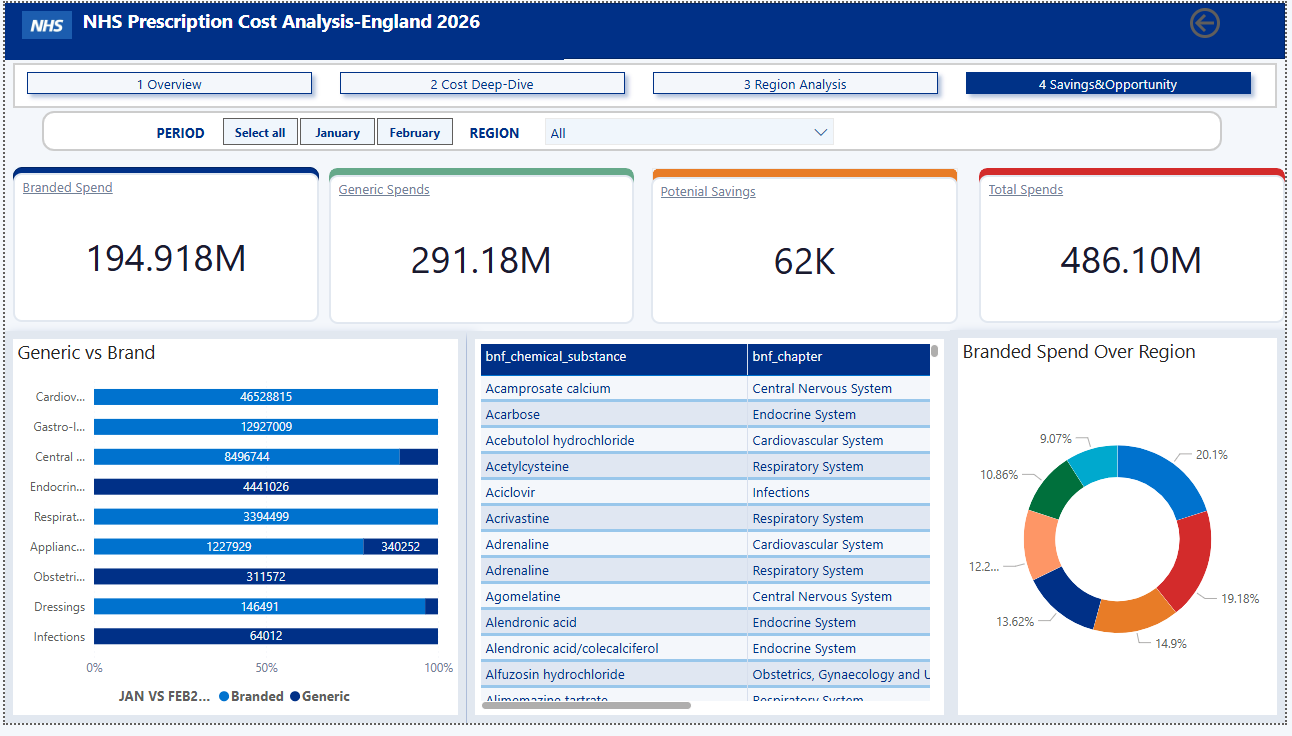

This screenshot's page, from the dashboard's own definition file:
{"tool":"powerbi","page":{"name":"4 Savings&Opportunity","canvas":[1280,720],"ordinal":3},"visuals":[{"type":"shape","title":"NHS Prescription Cost Analysis-England 2026","box":[0,0,1279.7,56.4],"z":0},{"type":"textbox","box":[0,0,559.2,56.7],"z":1000},{"type":"image","box":[17,6.5,50,30],"z":2000},{"type":"shape","box":[8.2,164.2,305.9,43.9],"z":3000},{"type":"card","title":"Branded Spend","fields":{"Values":["Measures Table.Branded_spend"]},"box":[8,170,306,149],"z":4000},{"type":"shape","box":[324,164.6,305.2,28.1],"z":6000},{"type":"cardVisual","fields":{"Data":["Measures Table.MoM Change %"]},"box":[50,343.8,147.9,56.2],"z":7000},{"type":"card","title":"Generic Spends","fields":{"Values":["Measures Table.Generic_spend"]},"box":[324,171.9,305.2,149],"z":8000},{"type":"shape","box":[647.4,165,305.5,43.2],"z":10000},{"type":"card","title":"Potenial Savings","fields":{"Values":["Measures Table.potential_savings"]},"box":[646.4,173.9,306.5,147.4],"z":11000},{"type":"shape","box":[974.1,165,305.9,41.4],"z":12000},{"type":"card","title":"Total Spends","fields":{"Values":["Sum(fact_table.nic)"]},"box":[974,172.1,305.8,148.1],"z":13000},{"type":"hundredPercentStackedBarChart","title":"Generic vs Brand","fields":{"Y":["Sum(fact_table.items)"],"Series":["dim_drugs.Drug Type"],"Category":["dim_drugs.bnf_chapter"]},"box":[0,328.1,461.5,391.7],"z":14000},{"type":"donutChart","title":"Branded Spend Over Region","fields":{"Category":["dim_location.region_name"],"Y":["Measures Table.Branded_spend"]},"box":[945.1,327,334.4,392.6],"z":15000},{"type":"tableEx","fields":{"Values":["dim_drugs.bnf_chemical_substance","dim_drugs.bnf_chapter","dim_drugs.has_generinc_equivalent","Measures Table.Branded_spend","Measures Table.potential_savings"]},"box":[461.7,327.7,485.1,392.6],"z":16000},{"type":"shape","box":[8,60,1264,45],"z":17000},{"type":"textbox","box":[59.6,116.2,33.3,16.2],"z":20000},{"type":"textbox","box":[943,116,52,48],"z":29000},{"type":"shape","box":[37.3,108.2,1180,40],"z":30000},{"type":"slicer","fields":{"Values":["dim_date.months"]},"box":[191.6,108.4,280.3,40.3],"z":31000},{"type":"actionButton","box":[1180,0,100,40],"z":32000},{"type":"textbox","box":[146.8,116,67,47.9],"z":33000},{"type":"textbox","box":[460.3,115.5,108.4,33.1],"z":34000},{"type":"slicer","fields":{"Values":["dim_location.region_name"]},"box":[529.9,105.2,309.3,43.3],"z":35000},{"type":"pageNavigator","box":[12.9,60,1245,40],"z":41001}]}

Visuals, with their boxes in screenshot pixels (x1, y1, x2, y2), scaled from the page's 1280x720 canvas onto the 1292x736 screenshot:
"NHS Prescription Cost Analysis-England 2026" shape: select_region(0, 0, 1291, 58)
textbox: select_region(0, 0, 564, 58)
image: select_region(17, 7, 68, 37)
shape: select_region(8, 168, 317, 213)
"Branded Spend" card: select_region(8, 174, 317, 326)
shape: select_region(327, 168, 635, 197)
cardVisual - Measures Table.MoM Change %: select_region(50, 351, 200, 409)
"Generic Spends" card: select_region(327, 176, 635, 328)
shape: select_region(653, 169, 962, 213)
"Potenial Savings" card: select_region(652, 178, 962, 328)
shape: select_region(983, 169, 1291, 211)
"Total Spends" card: select_region(983, 176, 1291, 327)
"Generic vs Brand" hundredPercentStackedBarChart: select_region(0, 335, 466, 735)
"Branded Spend Over Region" donutChart: select_region(954, 334, 1291, 735)
tableEx - dim_drugs.bnf_chemical_substance x dim_drugs.bnf_chapter: select_region(466, 335, 956, 735)
shape: select_region(8, 61, 1284, 107)
textbox: select_region(60, 119, 94, 135)
textbox: select_region(952, 119, 1004, 168)
shape: select_region(38, 111, 1229, 151)
slicer - dim_date.months: select_region(193, 111, 476, 152)
actionButton: select_region(1191, 0, 1291, 41)
textbox: select_region(148, 119, 216, 168)
textbox: select_region(465, 118, 574, 152)
slicer - dim_location.region_name: select_region(535, 108, 847, 152)
pageNavigator: select_region(13, 61, 1270, 102)
